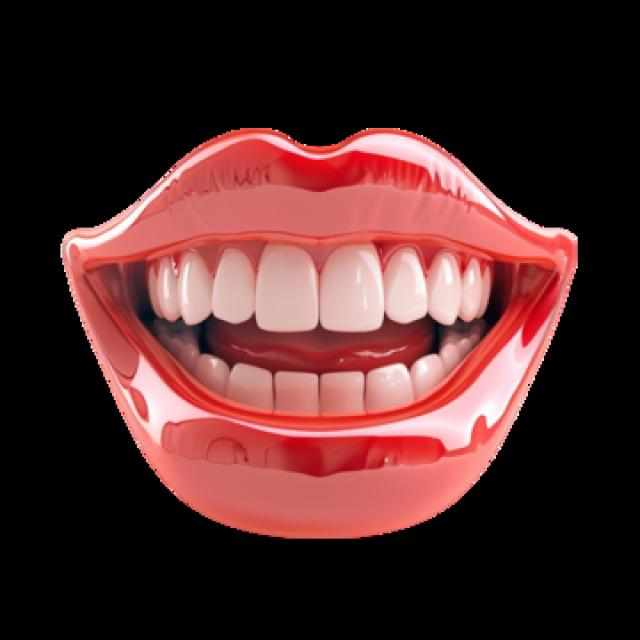tooth: (316, 247, 386, 325), (263, 249, 308, 327), (419, 258, 458, 318), (215, 254, 251, 316), (391, 258, 420, 322), (160, 336, 197, 386), (180, 258, 208, 320), (279, 373, 313, 416), (236, 364, 268, 406), (379, 368, 409, 407), (329, 377, 364, 409), (458, 265, 476, 318), (160, 276, 180, 314), (197, 359, 224, 386), (450, 323, 482, 345), (420, 364, 448, 386), (448, 338, 469, 362), (482, 265, 491, 313), (146, 270, 156, 310)
